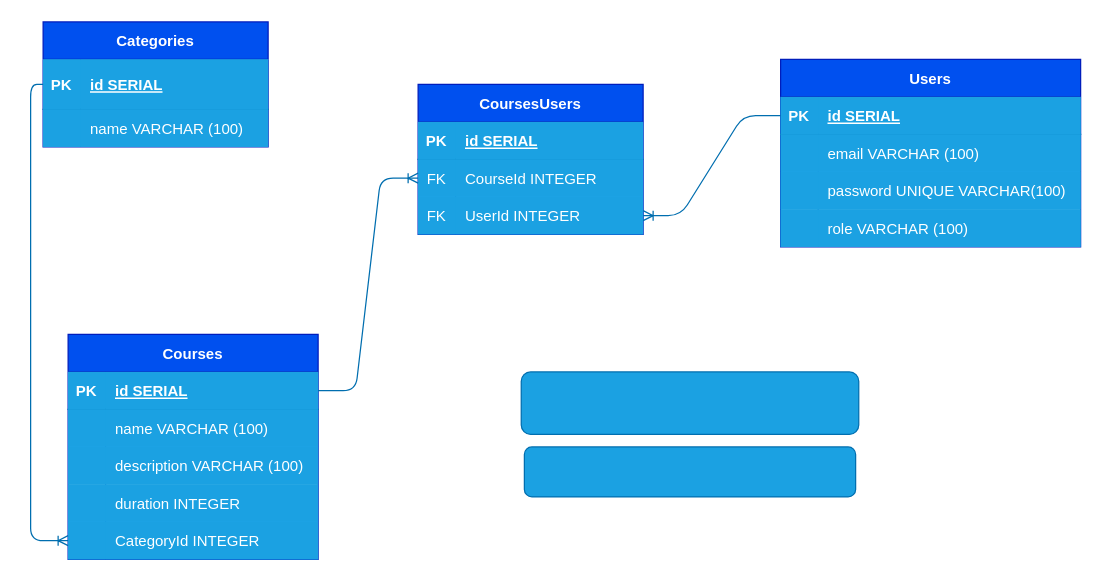
The diagram is 1103 pixels wide and 581 high, and some of its shapes have lost their labels. The shapes that lost their labels are listed below. From the top down, each one's centre as x and y in pixels, then its label:
(689,402): Users Many To Many Courses thru CoursesUsers
(689,471): Categories 1 to Many to Courses
